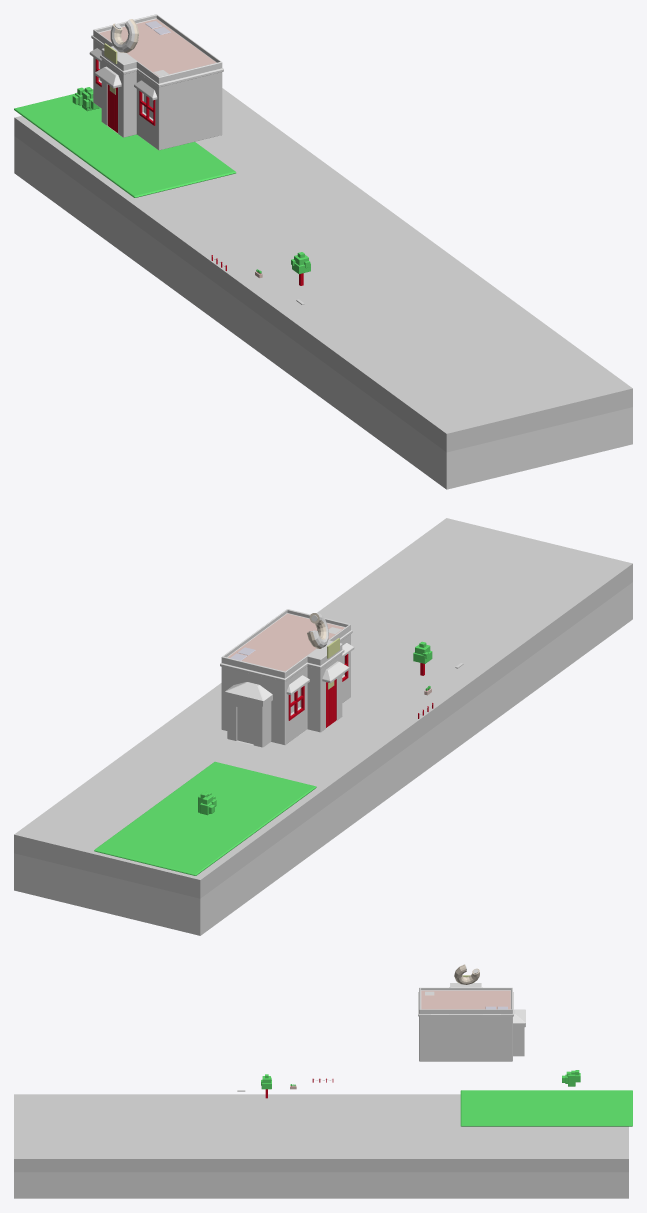
Rendered from Hepsi_fihsing_game.fbx.
3 views of the same model, one above another, from view 1: azimuth 30°, elevation 25°; view 2: azimuth 150°, elevation 25°; view 3: azimuth 270°, elevation 25° (orthographic). The views are drawn at different scales.
Visible parts, largest first — view 1: Cube, Donnut House, Yer Plane; view 2: Cube, Donnut House, Yer Plane; view 3: Cube, Donnut House, Yer Plane.
Boxes of the visible parts, x1=… form: Cube: x1=14, y1=88, x2=632, y2=489; Donnut House: x1=89, y1=14, x2=223, y2=150; Yer Plane: x1=14, y1=89, x2=236, y2=197; Cube: x1=14, y1=518, x2=632, y2=935; Donnut House: x1=220, y1=609, x2=354, y2=747; Yer Plane: x1=94, y1=761, x2=316, y2=875; Cube: x1=14, y1=1094, x2=628, y2=1198; Donnut House: x1=418, y1=964, x2=525, y2=1061; Yer Plane: x1=460, y1=1090, x2=632, y2=1126.
Bounding box in the file's own units: 227 × 244 × 809.
